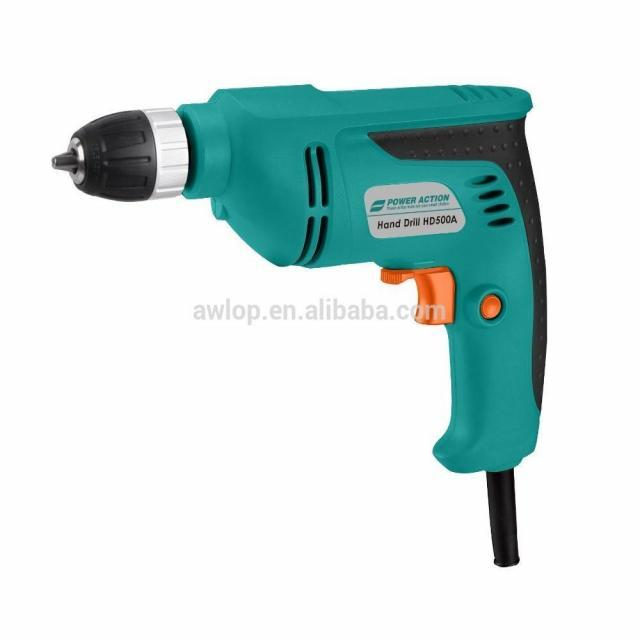drill: (51, 83, 548, 569)
